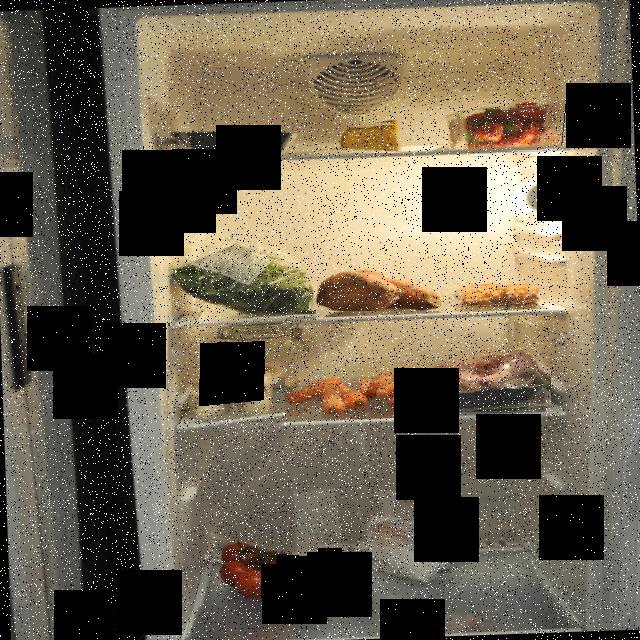carrot: (284, 366, 429, 418)
cheese: (340, 118, 403, 153)
chicken: (421, 350, 551, 414)
flour: (360, 508, 466, 588), (218, 324, 316, 396)
mushrooms: (184, 359, 286, 435)
shrimp: (456, 284, 540, 308)
spinach: (165, 237, 316, 326)
strawberries: (447, 100, 567, 152)
sweet_potato: (309, 260, 450, 312)
tomato: (214, 532, 318, 598)
